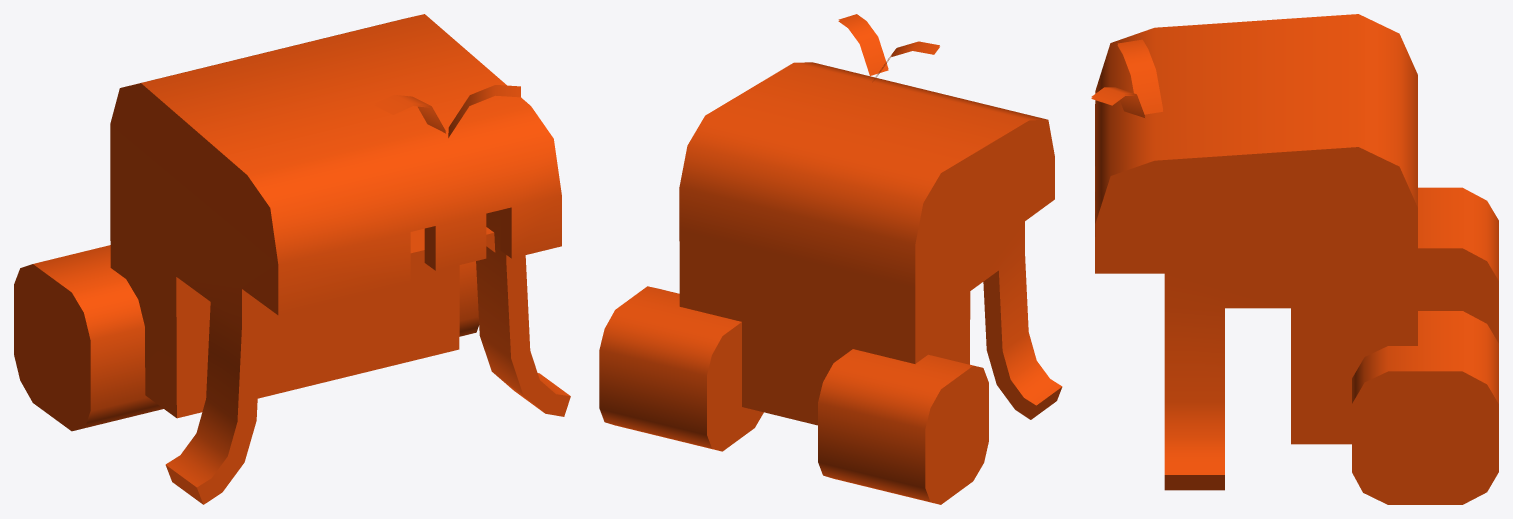
Rendered from Hair Female 07.FBX.
The picture shows the model from 3 angles, left to right: view 1: azimuth 30°, elevation 25°; view 2: azimuth 150°, elevation 25°; view 3: azimuth 270°, elevation 25°; orthographic projection. The views are drawn at different scales.
Visible parts, largest first — view 1: Hair Female 07; view 2: Hair Female 07; view 3: Hair Female 07.
Part boxes in pixels (x1,y1,x2,y2): Hair Female 07: (14,14,570,504); Hair Female 07: (599,14,1062,504); Hair Female 07: (1091,14,1498,504).
Size of the model in its own units: 71.97 by 66.64 by 67.51.
Materials: 1 (1 with a texture image).
